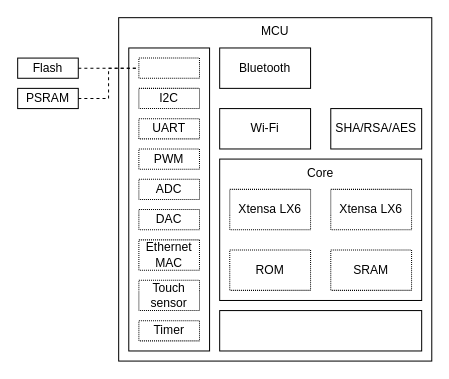
The diagram is 449 pixels wide and 379 high, and some of its shapes have lost their labels. The centre of each missing label's shape, as x and y in pixels:
SPI: (x=168, y=67)
ULP: (x=320, y=330)
